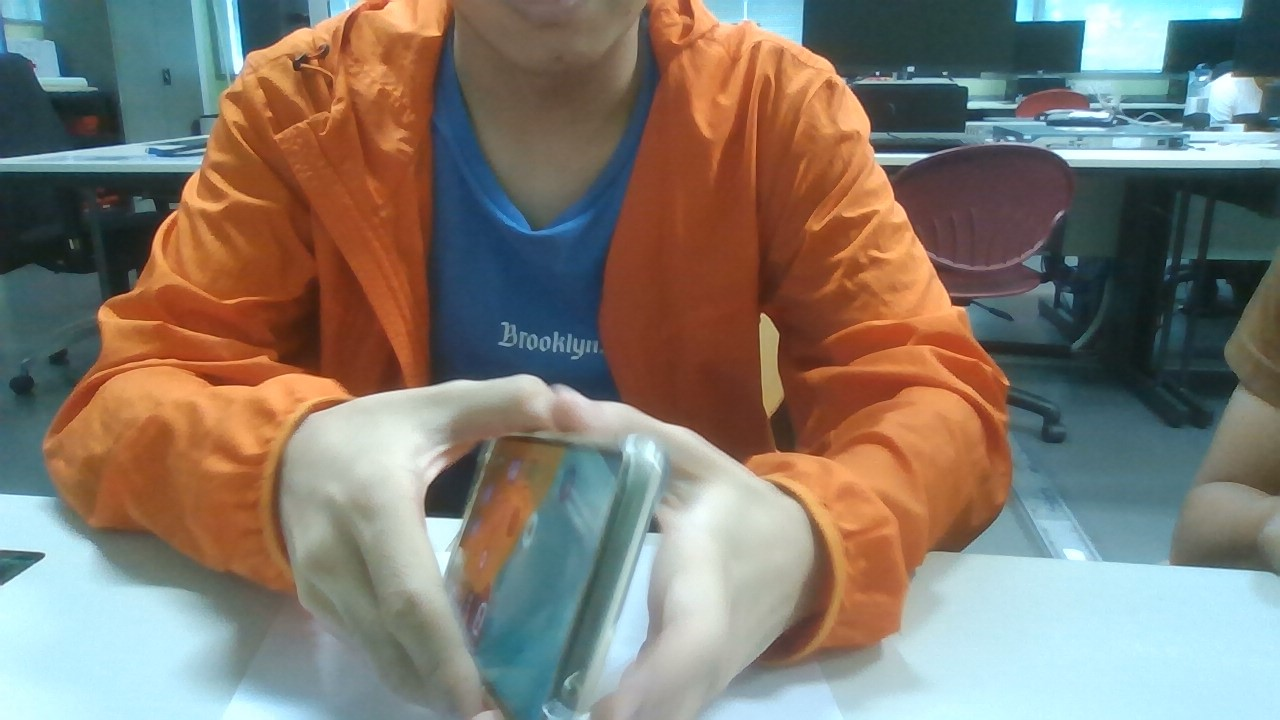phone: (422, 431, 668, 720)
